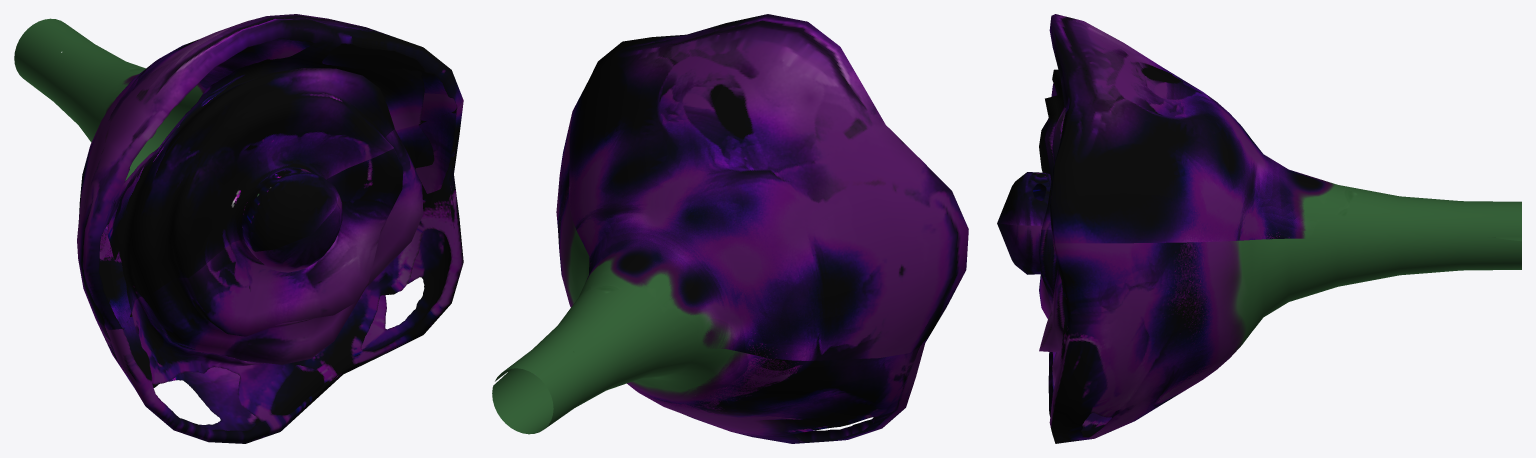
File: Rosa.fbx
3 views of the same model, side by side, from view 1: azimuth 30°, elevation 25°; view 2: azimuth 150°, elevation 25°; view 3: azimuth 270°, elevation 25° (orthographic). The views are drawn at different scales.
Parts seen in each view (by area): view 1: Rosa.004; view 2: Rosa.004; view 3: Rosa.004.
Part boxes in pixels (box(x1,y1,x2,y2)): Rosa.004: box(14, 14, 463, 443); Rosa.004: box(492, 14, 968, 443); Rosa.004: box(997, 14, 1521, 443).
Bounding box in the file's own units: 244 × 254 × 299.
